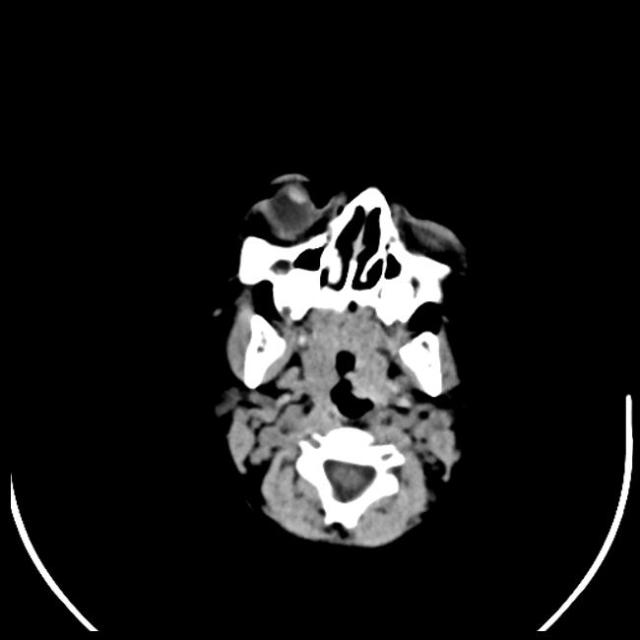lesion: (373, 381, 456, 503)
